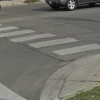crosswalk: (0, 26, 100, 55)
